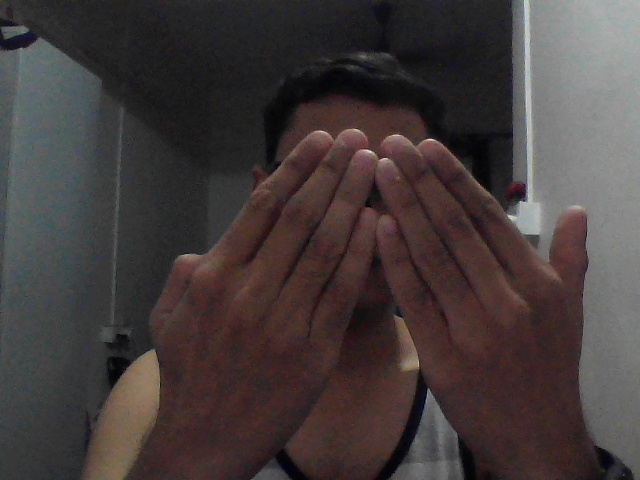Thank You: (139, 103, 616, 480)
